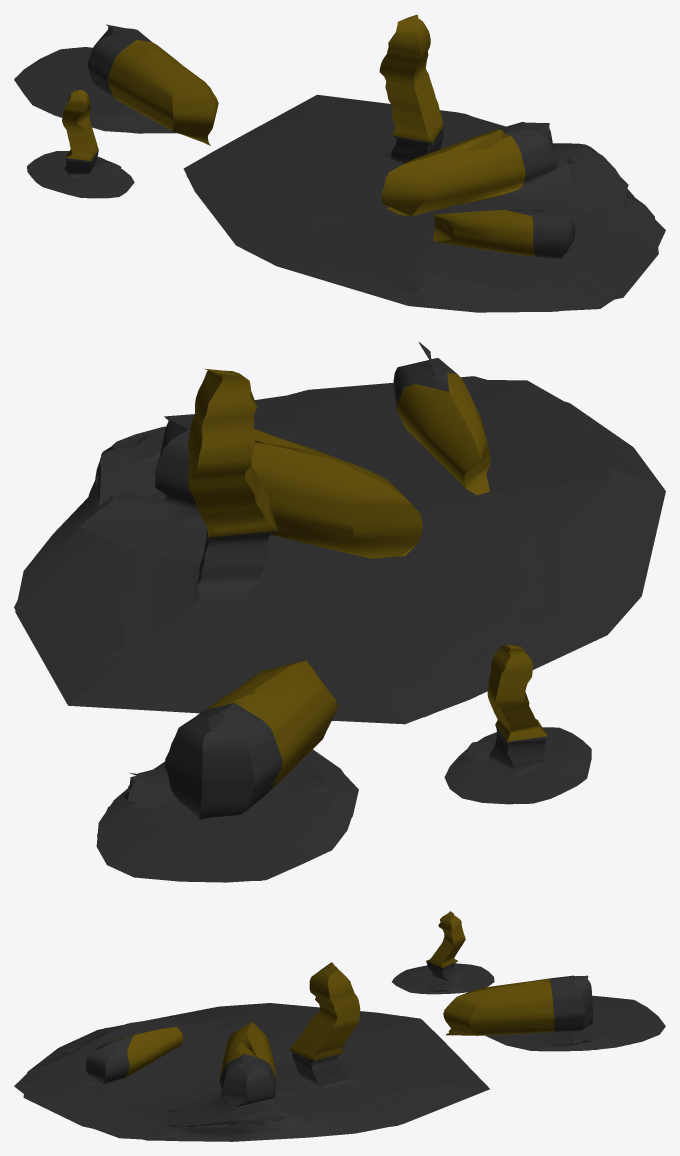
File: colillas.fbx
3 views of the same model, one above another, from view 1: azimuth 30°, elevation 25°; view 2: azimuth 150°, elevation 25°; view 3: azimuth 270°, elevation 25° (orthographic). The views are drawn at different scales.
Visible parts, largest first — view 1: Retopo_Sphere.001; view 2: Retopo_Sphere.001; view 3: Retopo_Sphere.001.
Boxes of the visible parts, left/top/right/bottom form: Retopo_Sphere.001: left=14, top=14, right=665, bottom=312; Retopo_Sphere.001: left=14, top=342, right=665, bottom=882; Retopo_Sphere.001: left=14, top=911, right=665, bottom=1141.
Bounding box in the file's own units: 1337 × 434 × 2105.
